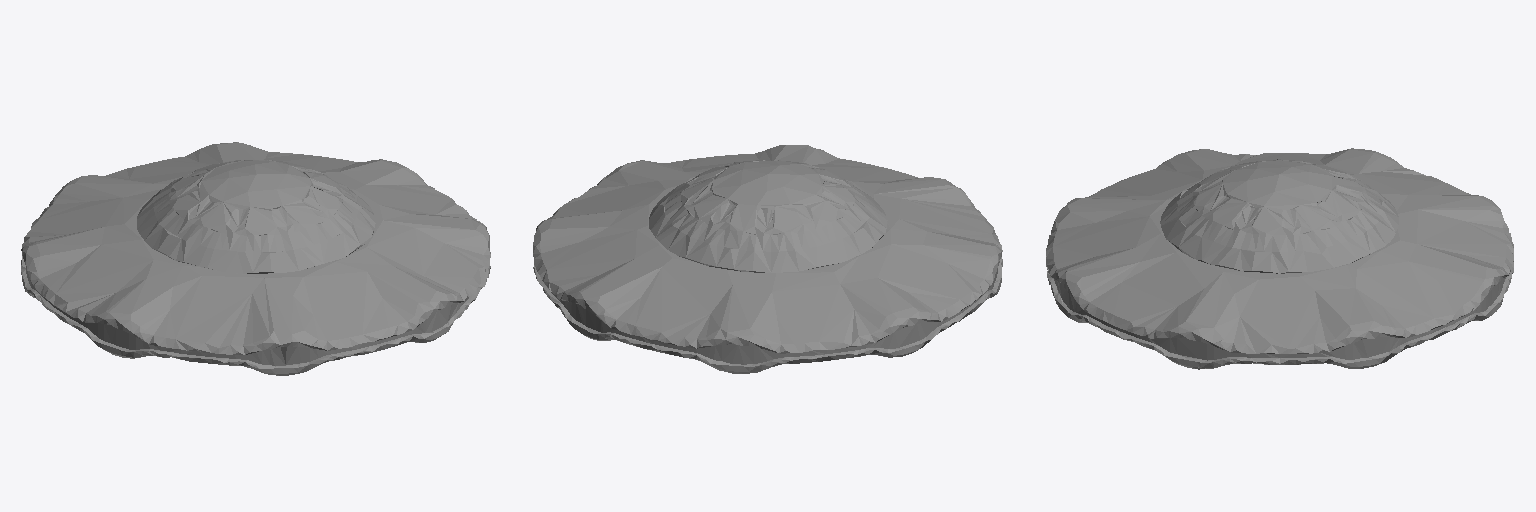
Rendered from frame_072.obj.
3 renders of one model, left to right at view 1: azimuth 30°, elevation 25°; view 2: azimuth 150°, elevation 25°; view 3: azimuth 270°, elevation 25°, orthographic.
Visible parts, largest first — view 1: 13884_UFO_Saucer_v1_l2; view 2: 13884_UFO_Saucer_v1_l2; view 3: 13884_UFO_Saucer_v1_l2.
Boxes of the visible parts, <box> form: 13884_UFO_Saucer_v1_l2: <box>21,142,490,375</box>; 13884_UFO_Saucer_v1_l2: <box>533,145,1002,373</box>; 13884_UFO_Saucer_v1_l2: <box>1046,148,1513,369</box>.
Size of the model in its own units: 12.69 by 4.88 by 12.7.